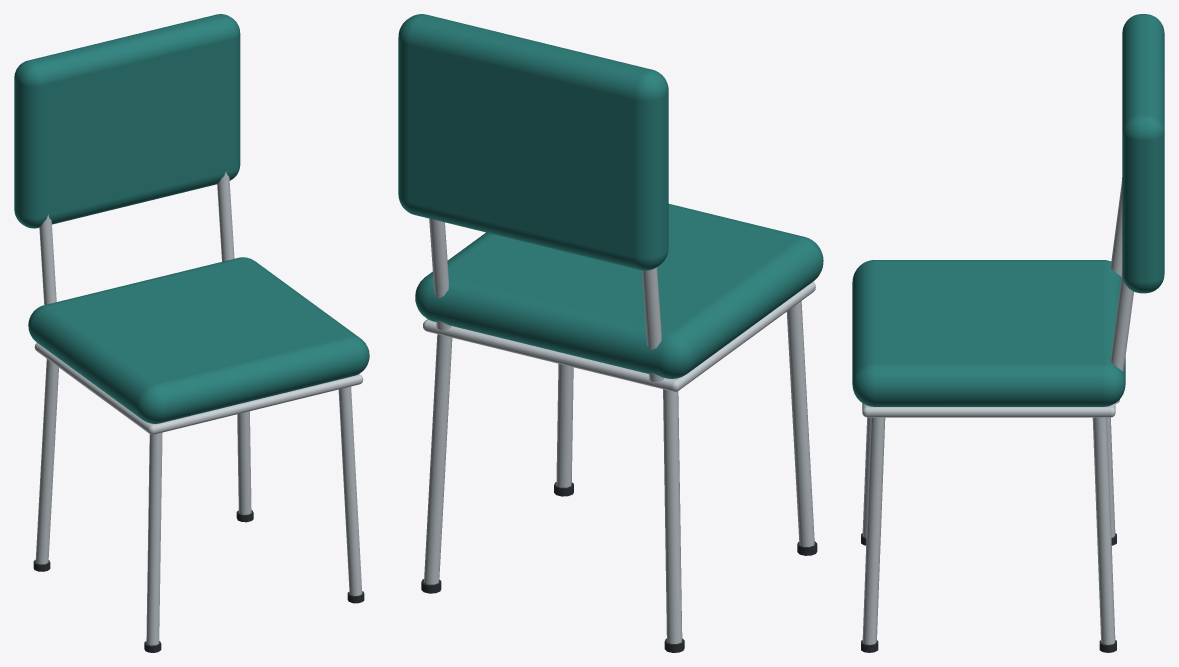
File: SM_DinerChair.glb
The picture shows the model from 3 angles, left to right: view 1: azimuth 30°, elevation 25°; view 2: azimuth 150°, elevation 25°; view 3: azimuth 270°, elevation 25°; orthographic projection. The views are drawn at different scales.
Visible parts, largest first — view 1: SM_DinerChair; view 2: SM_DinerChair; view 3: SM_DinerChair.
Boxes of the visible parts, left/top/right/bottom form: SM_DinerChair: left=14, top=14, right=369, bottom=652; SM_DinerChair: left=398, top=14, right=823, bottom=652; SM_DinerChair: left=852, top=14, right=1164, bottom=652.
Bounding box in the file's own units: 0.44 × 0.9 × 0.48.
Materials: 2 (2 with a texture image).
